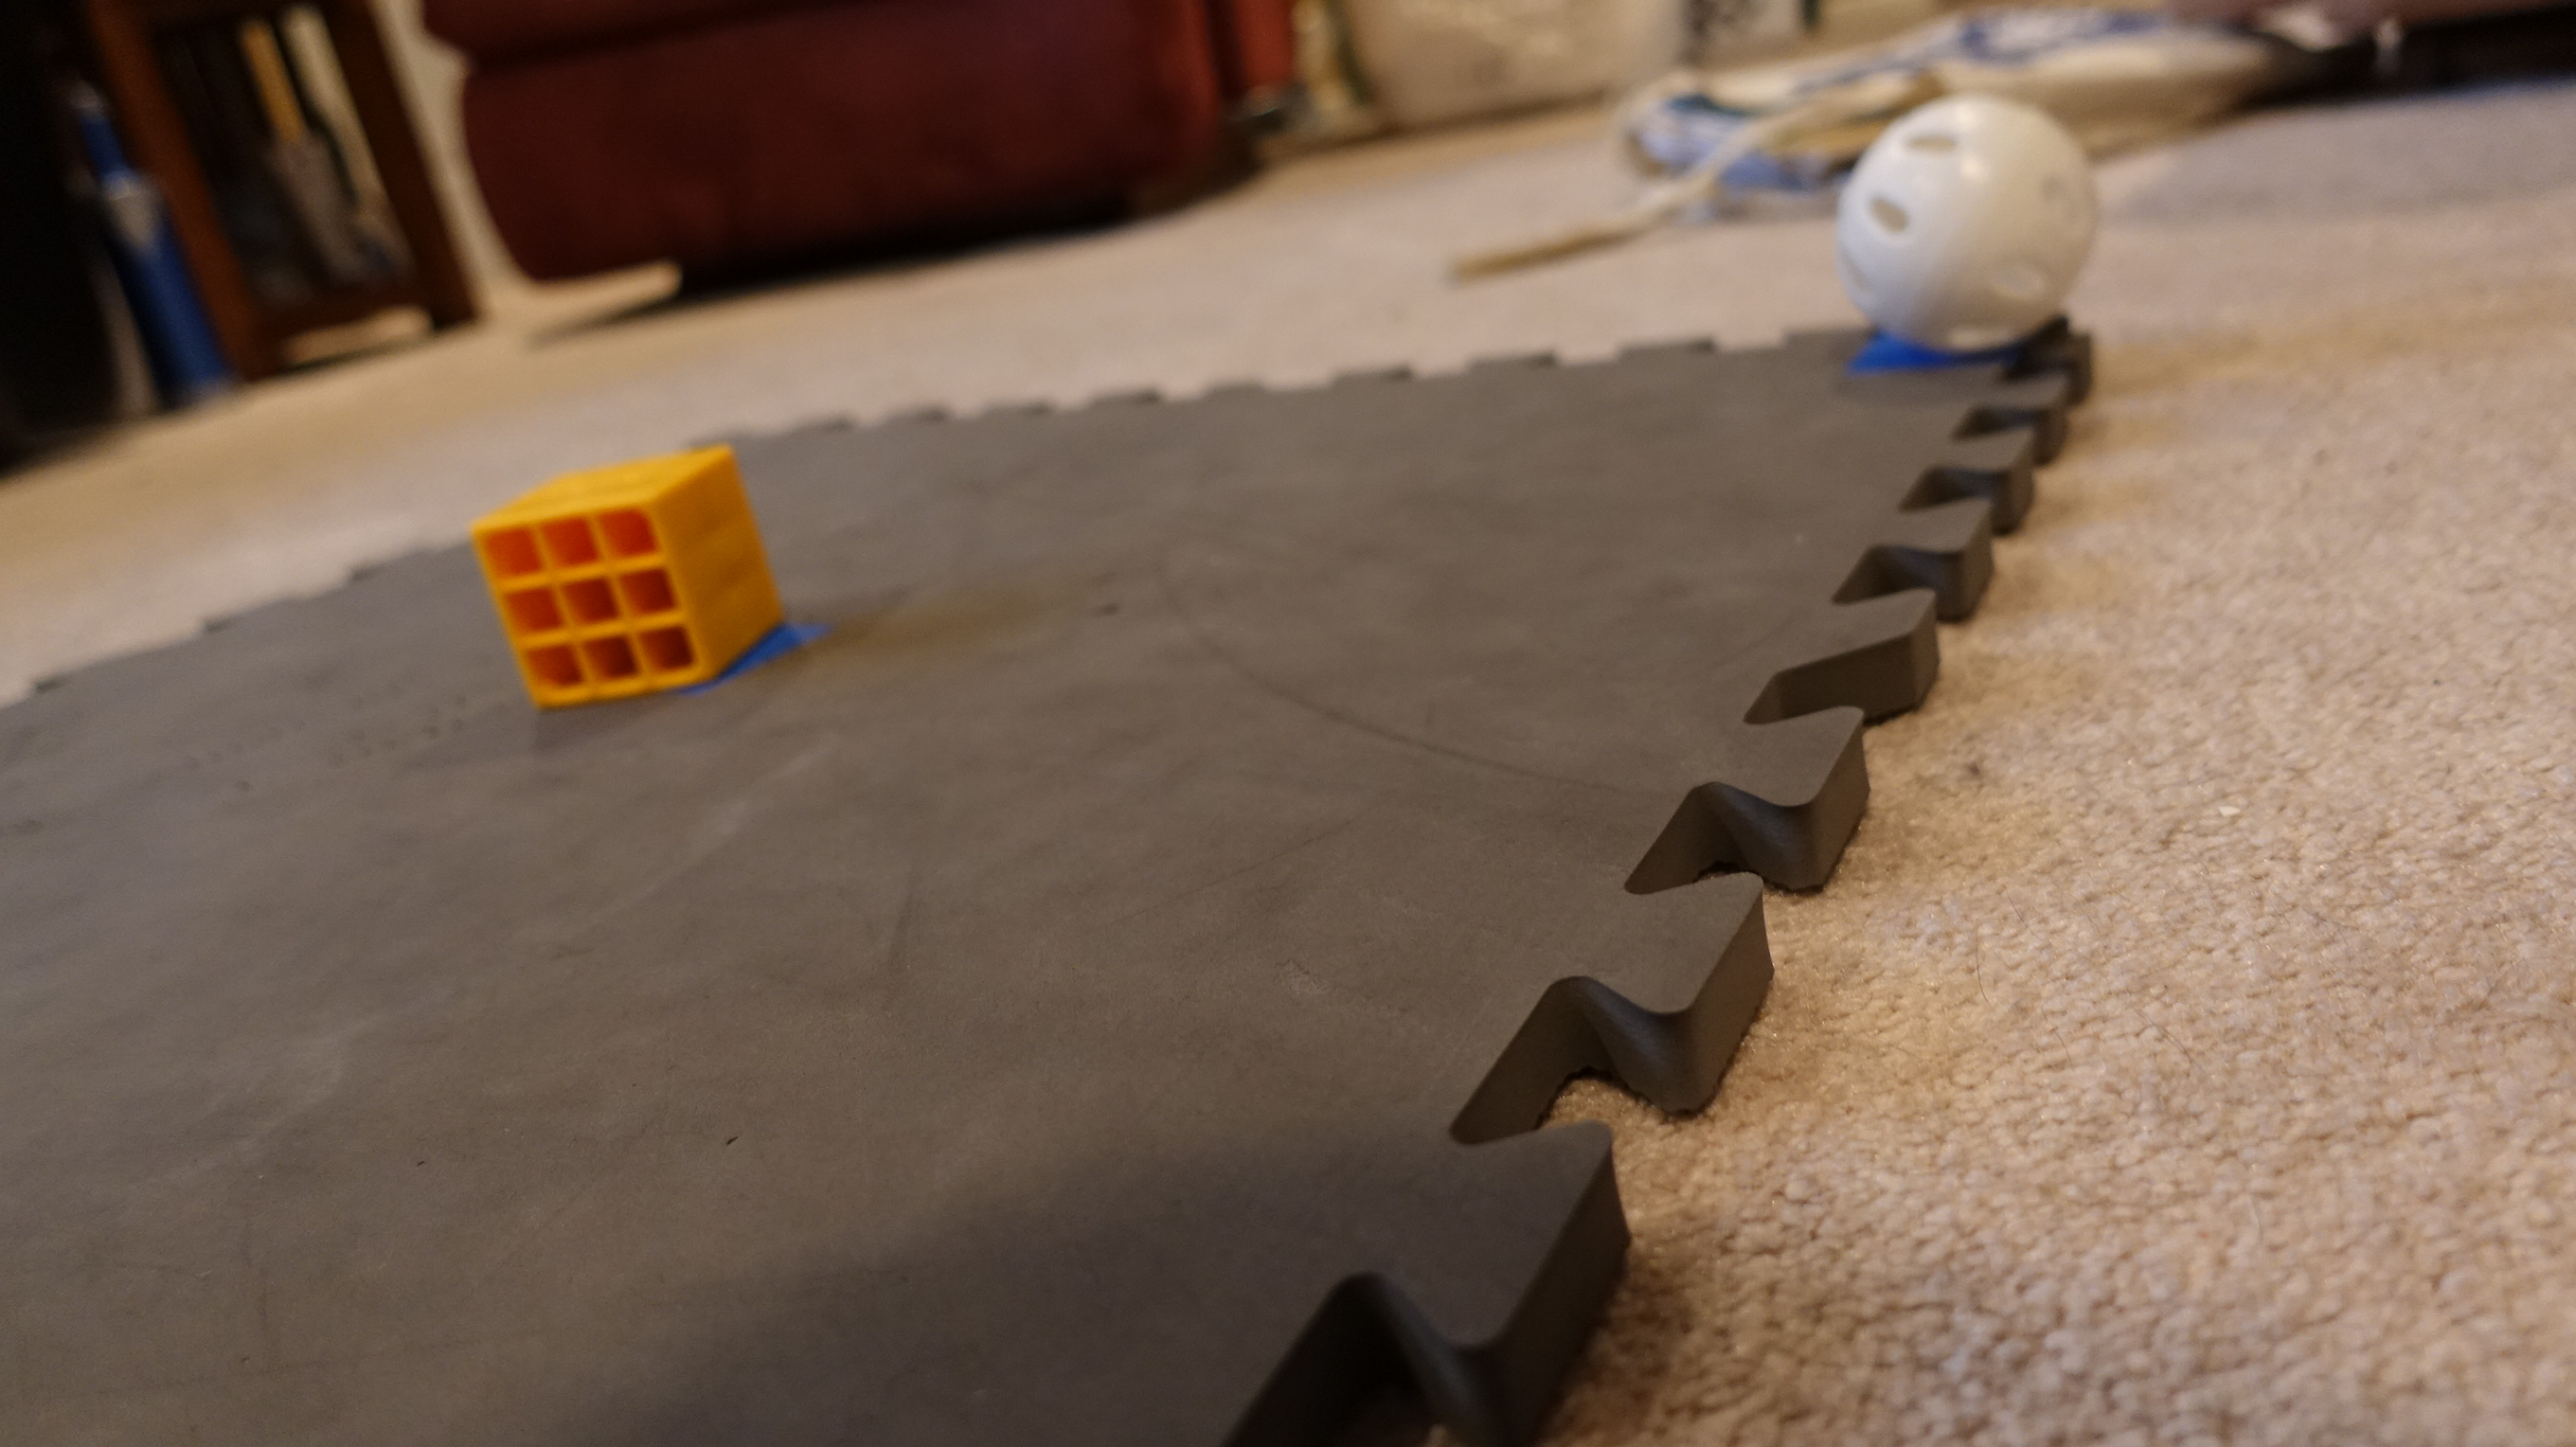gold: (465, 433, 787, 711)
silver: (1831, 83, 2098, 356)
